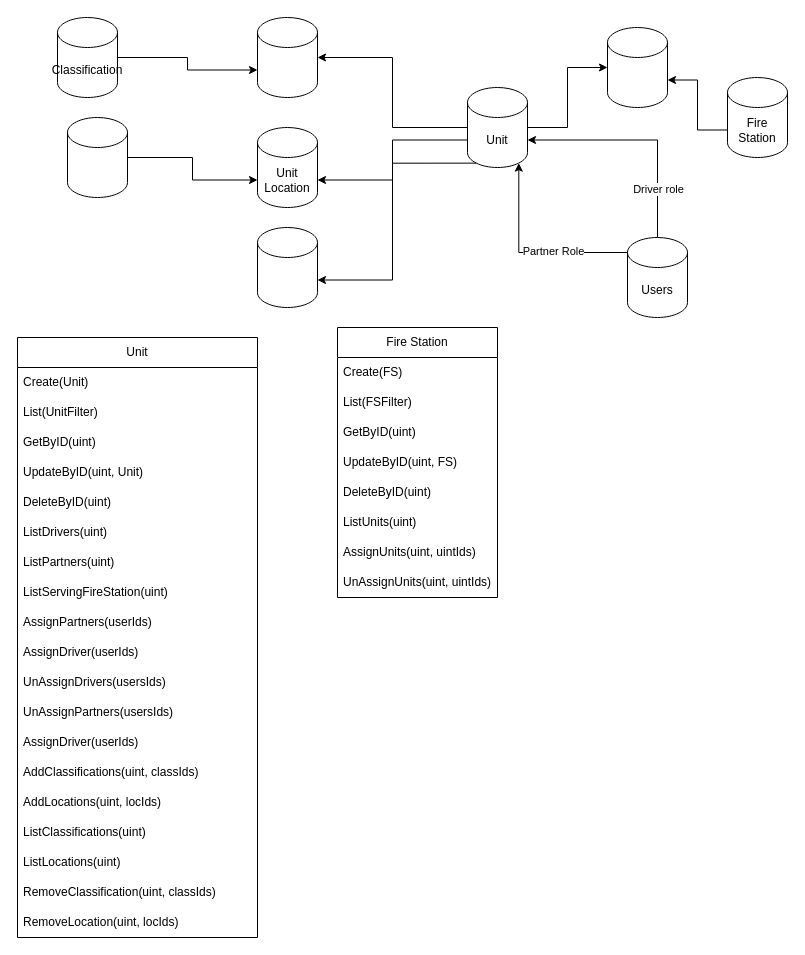
This 805x955 diagram has some shape labels left out. The shapes that lost their labels are listed below. From the top down, each one's centre as x and y in pixels, then its label:
At point (287, 57): "Unit Classification".
At point (637, 67): "Fire Station Units".
At point (97, 157): "Location".
At point (287, 267): "Incident".
